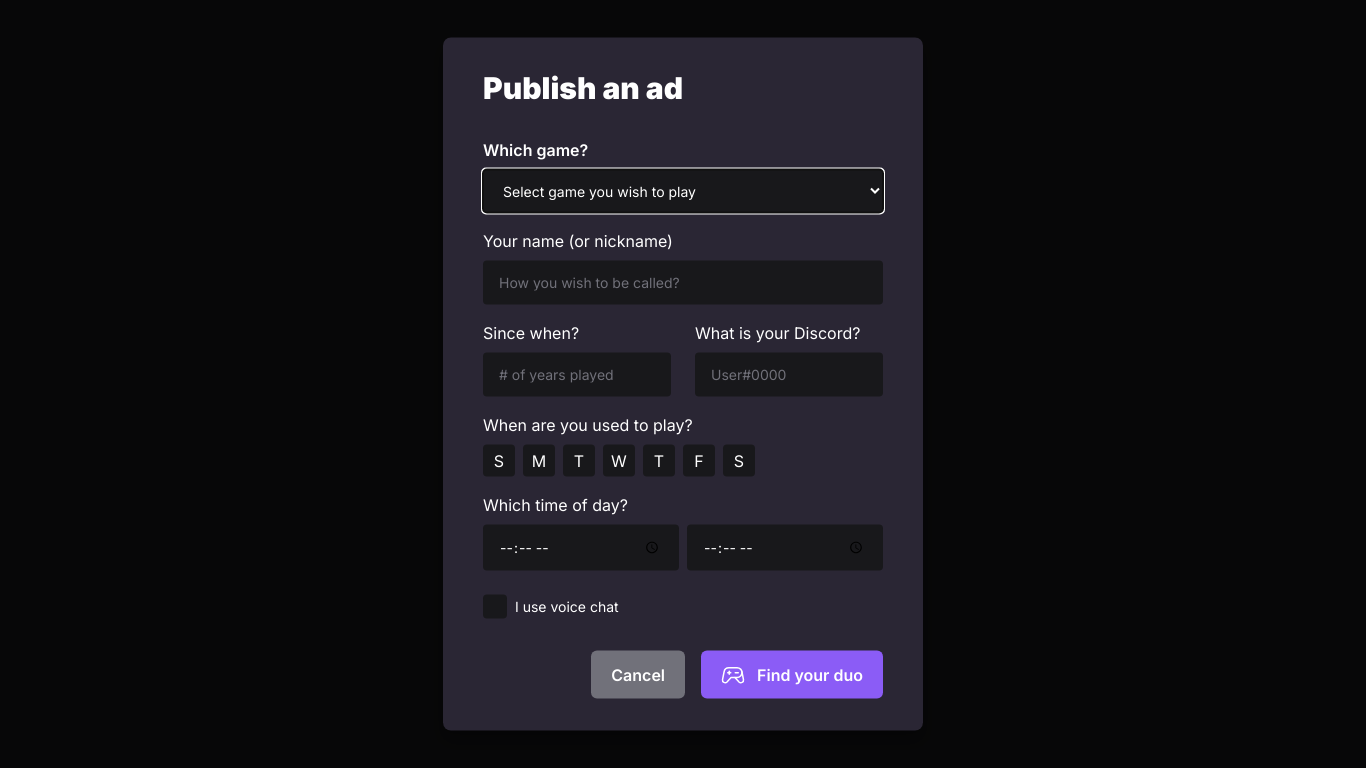
Test: CreateAdModal › asks for a week day before posting
Select "Game One" in the dropdown labelled "Which game?" at (683, 191), box x1=483 y1=170 x2=883 y2=212
Type "  Player One  " into the field labelled "Your name (or nickname)".
click(683, 282); type("  Player One  ")  # box x1=483 y1=260 x2=883 y2=304
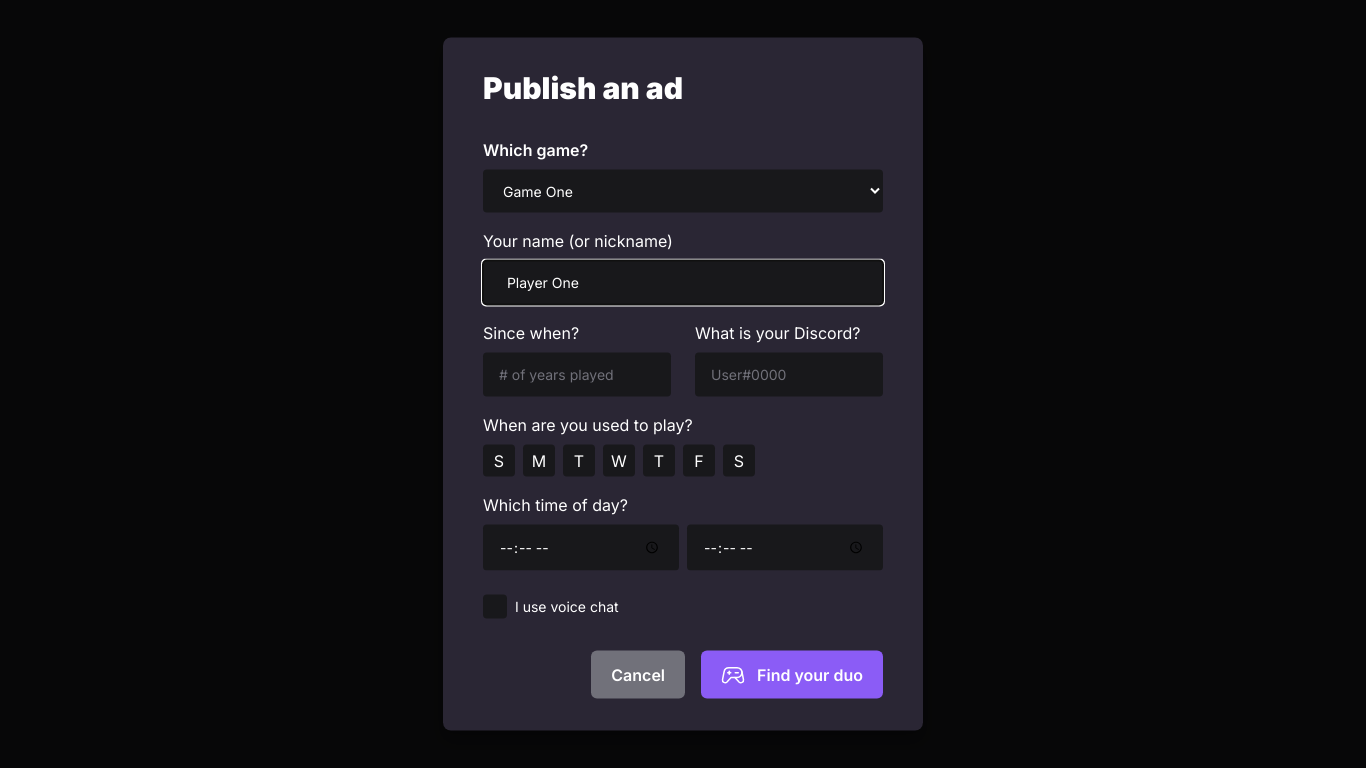
Type "3" into the number field labelled "Since when?".
click(577, 374); type("3")  # box x1=483 y1=352 x2=671 y2=396
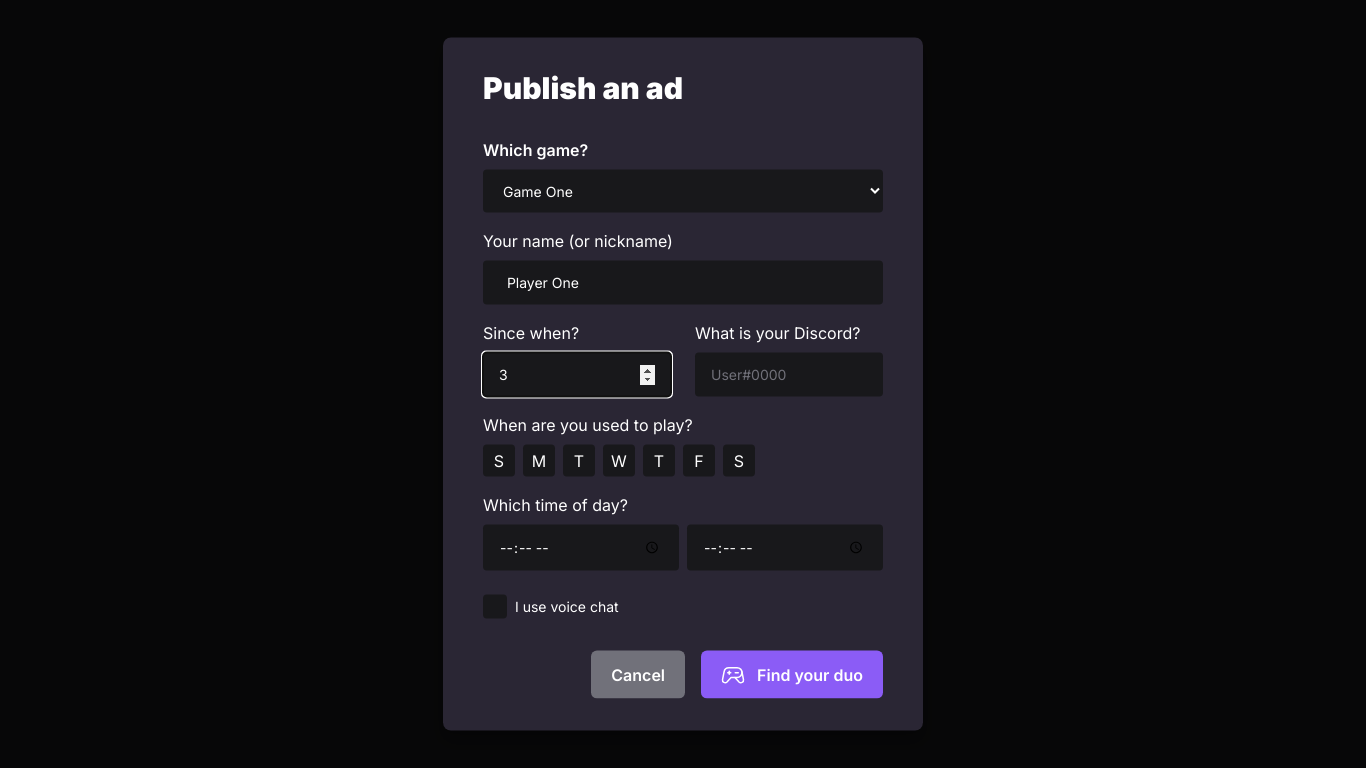
Type "player#1234" into the field labelled "What is your Discord?".
click(789, 374); type("player#1234")  # box x1=695 y1=352 x2=883 y2=396
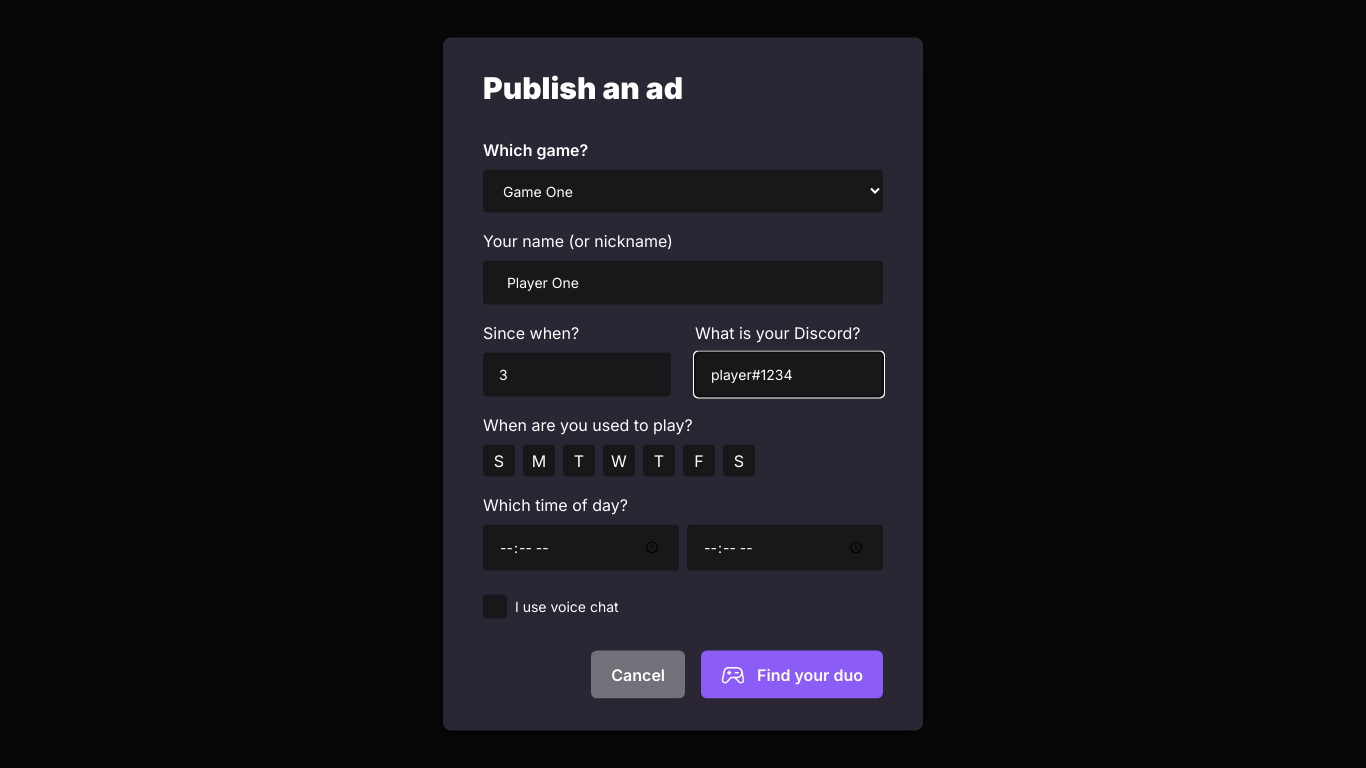
Type "18:00" into the time field named "From".
click(581, 548); type("18:00")  # box x1=483 y1=524 x2=679 y2=570
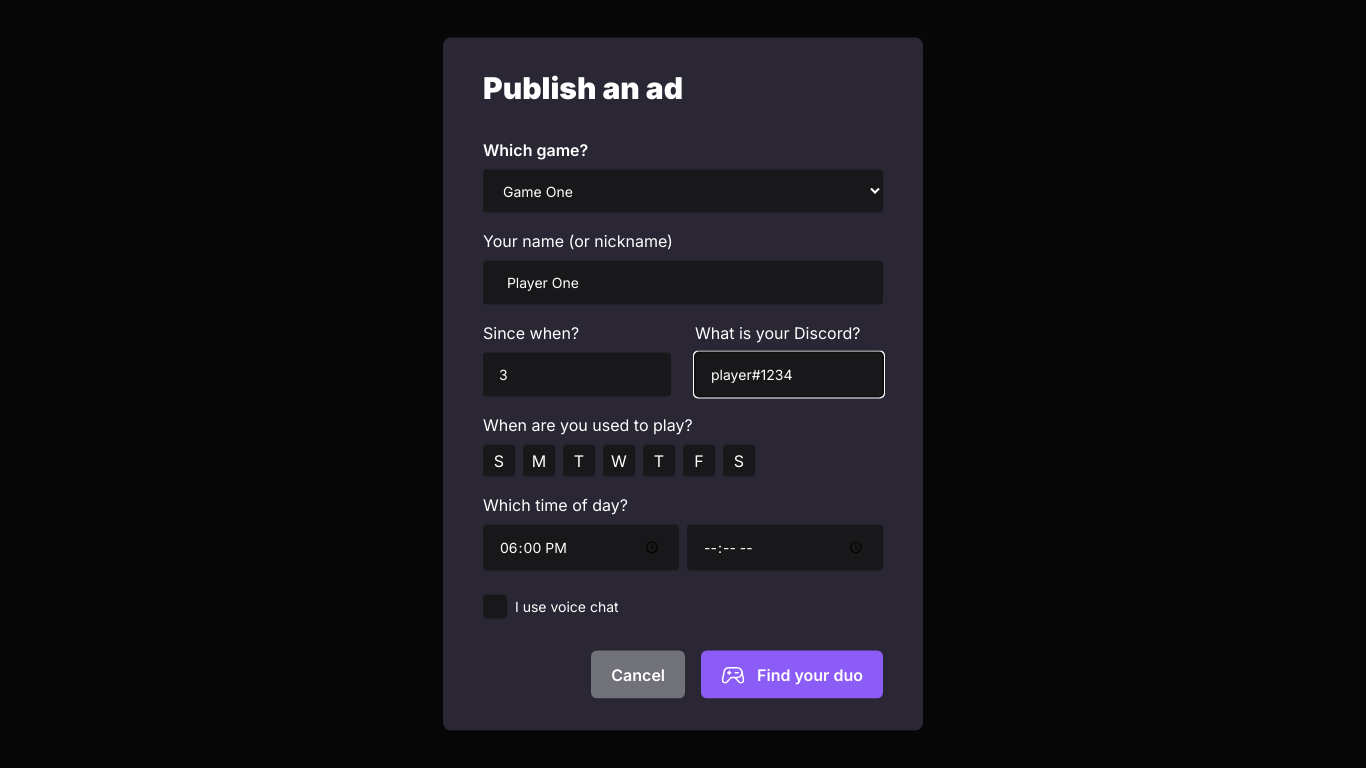
Type "22:30" into the time field labelled "To".
click(785, 548); type("22:30")  # box x1=687 y1=524 x2=883 y2=570
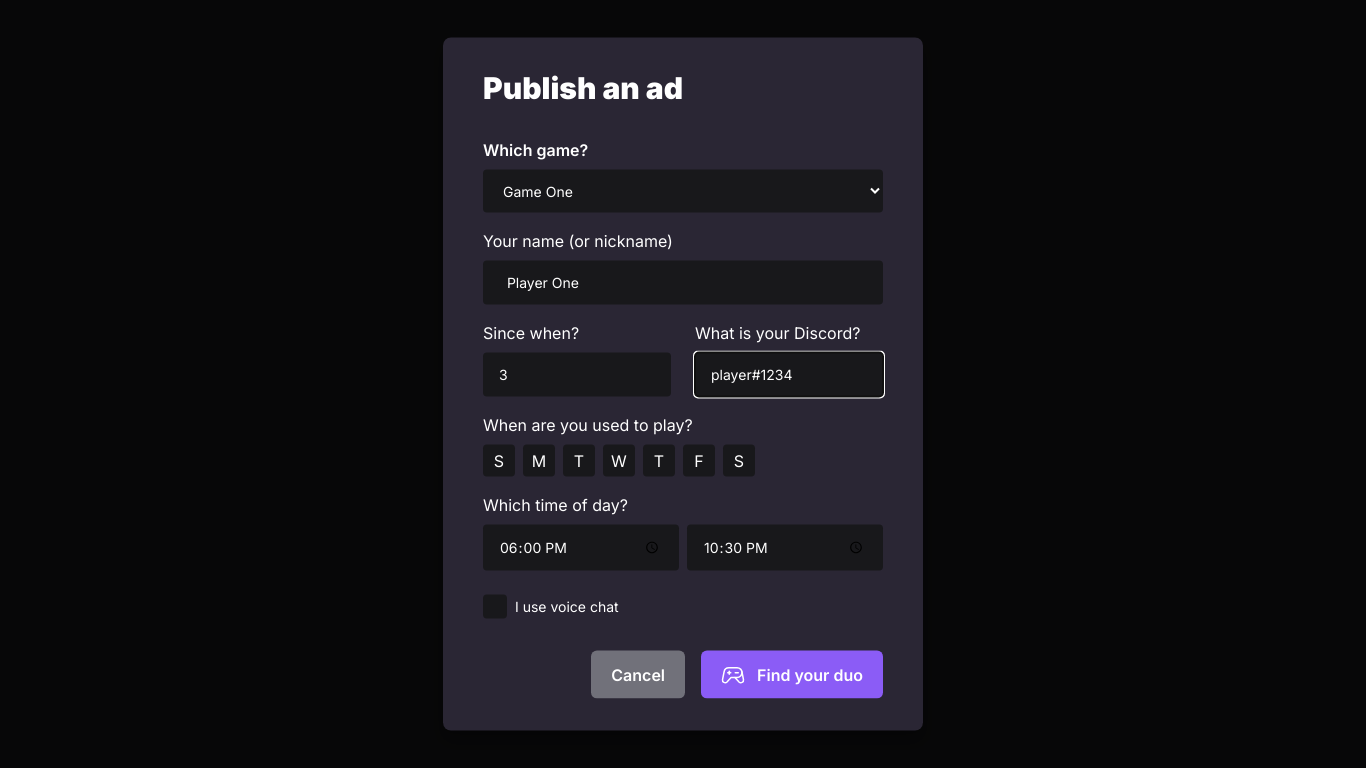
Click the button "Find your duo".
click(792, 674)  # box x1=701 y1=650 x2=883 y2=698
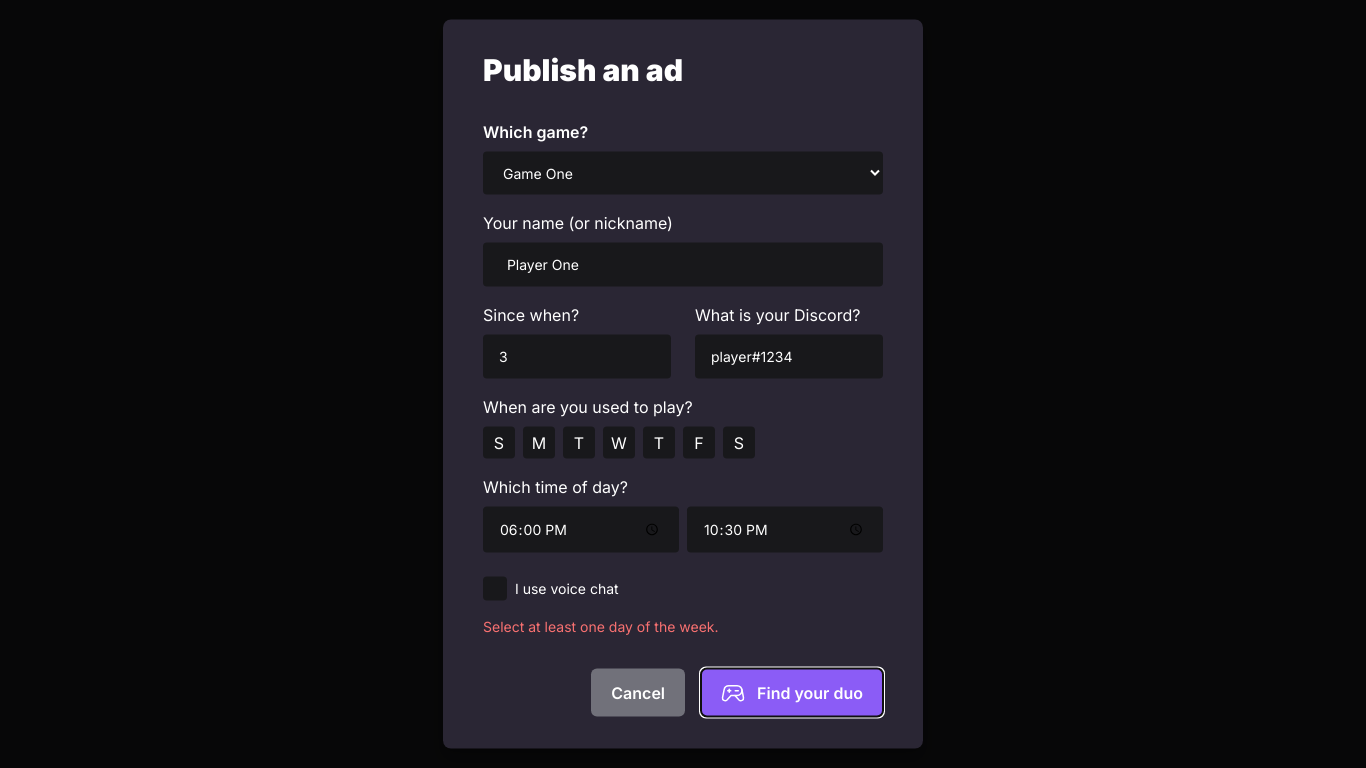
Now the message reads "Select at least one day of the week.", box x1=483 y1=618 x2=719 y2=634
